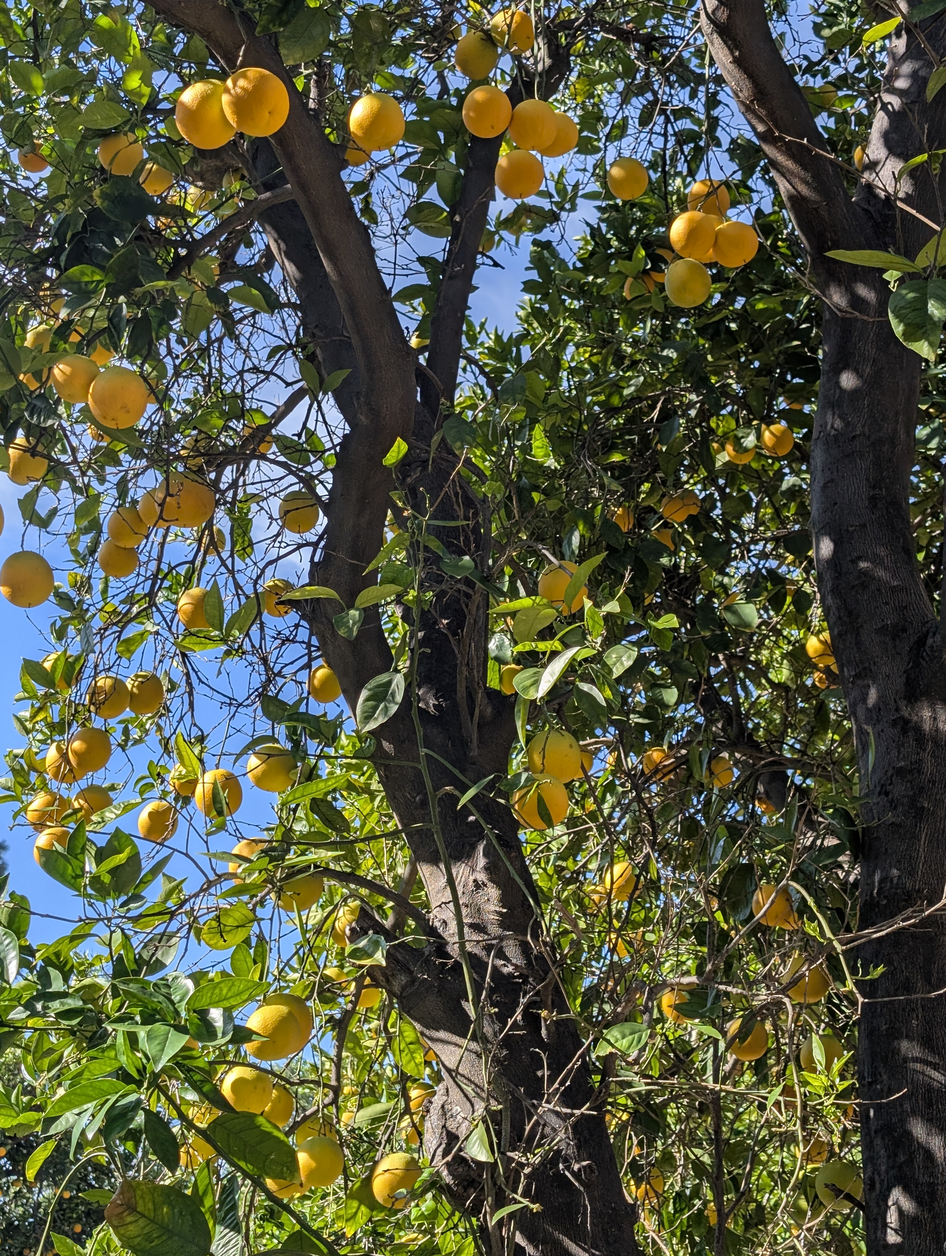orange: (222, 67, 289, 136), (175, 80, 235, 150), (88, 366, 150, 430), (259, 993, 313, 1056), (348, 93, 405, 151), (157, 474, 215, 527), (0, 551, 54, 607), (512, 776, 569, 829), (528, 729, 581, 783), (370, 1153, 422, 1208), (244, 1007, 298, 1059), (217, 1065, 273, 1113), (463, 85, 512, 139), (247, 743, 297, 793), (508, 99, 556, 151), (297, 1136, 343, 1190), (495, 149, 544, 199), (50, 354, 99, 404), (815, 1161, 863, 1210), (195, 769, 242, 818), (669, 211, 715, 260), (665, 259, 711, 308), (455, 30, 499, 80), (714, 220, 758, 268), (67, 727, 111, 775), (536, 113, 579, 157), (98, 134, 144, 175), (25, 791, 72, 831), (8, 437, 47, 485), (491, 9, 534, 51), (727, 1018, 769, 1061), (107, 505, 148, 548), (43, 741, 84, 784), (788, 963, 831, 1004), (279, 490, 319, 534), (279, 874, 323, 914), (607, 158, 648, 200), (138, 799, 178, 842), (538, 562, 576, 607), (88, 678, 129, 719), (752, 885, 793, 926), (800, 1034, 844, 1072), (687, 180, 730, 218), (72, 784, 112, 823), (97, 539, 138, 577), (127, 673, 164, 715), (180, 1132, 221, 1167), (262, 1083, 294, 1127), (294, 1115, 338, 1146), (177, 587, 209, 629), (34, 826, 70, 862), (308, 664, 340, 704), (139, 161, 174, 196), (603, 861, 634, 900), (263, 578, 293, 617), (139, 492, 171, 527), (762, 423, 794, 457), (636, 1167, 664, 1204), (642, 746, 672, 779), (17, 143, 49, 173), (806, 631, 833, 666), (170, 763, 197, 797), (706, 756, 734, 787), (265, 1178, 303, 1200), (333, 916, 358, 949), (25, 324, 53, 353), (661, 495, 690, 523), (184, 185, 214, 212), (662, 990, 688, 1021), (25, 324, 53, 352), (181, 437, 205, 469), (87, 341, 115, 368), (199, 526, 226, 554), (409, 1082, 435, 1111), (609, 504, 634, 533), (500, 664, 524, 694), (804, 1137, 830, 1164), (726, 441, 754, 465), (18, 369, 49, 390), (232, 839, 266, 858), (782, 953, 805, 980), (357, 984, 382, 1008), (400, 1118, 422, 1145), (192, 1103, 219, 1123), (696, 242, 718, 264), (608, 932, 628, 956), (222, 169, 243, 191), (345, 147, 369, 166), (480, 225, 496, 253), (654, 529, 674, 550), (589, 885, 607, 908), (322, 968, 349, 983), (570, 585, 586, 610), (814, 669, 833, 689), (781, 910, 802, 928), (686, 493, 701, 516), (42, 652, 60, 671), (257, 433, 273, 454), (410, 332, 429, 349), (705, 1200, 717, 1226), (336, 905, 361, 917), (257, 435, 273, 453), (854, 145, 865, 171), (581, 749, 593, 772), (642, 275, 655, 296), (756, 801, 776, 814), (606, 748, 619, 768), (50, 297, 65, 314), (722, 592, 739, 607), (655, 248, 674, 260), (649, 271, 665, 284), (705, 215, 722, 227), (241, 423, 256, 436), (424, 1047, 437, 1061), (186, 1037, 200, 1050), (844, 1104, 854, 1121), (69, 330, 82, 343), (56, 676, 67, 690), (342, 1086, 359, 1095), (343, 1113, 355, 1125), (0, 506, 4, 535), (788, 402, 802, 410), (645, 593, 654, 605), (229, 862, 239, 872), (362, 976, 371, 984)
